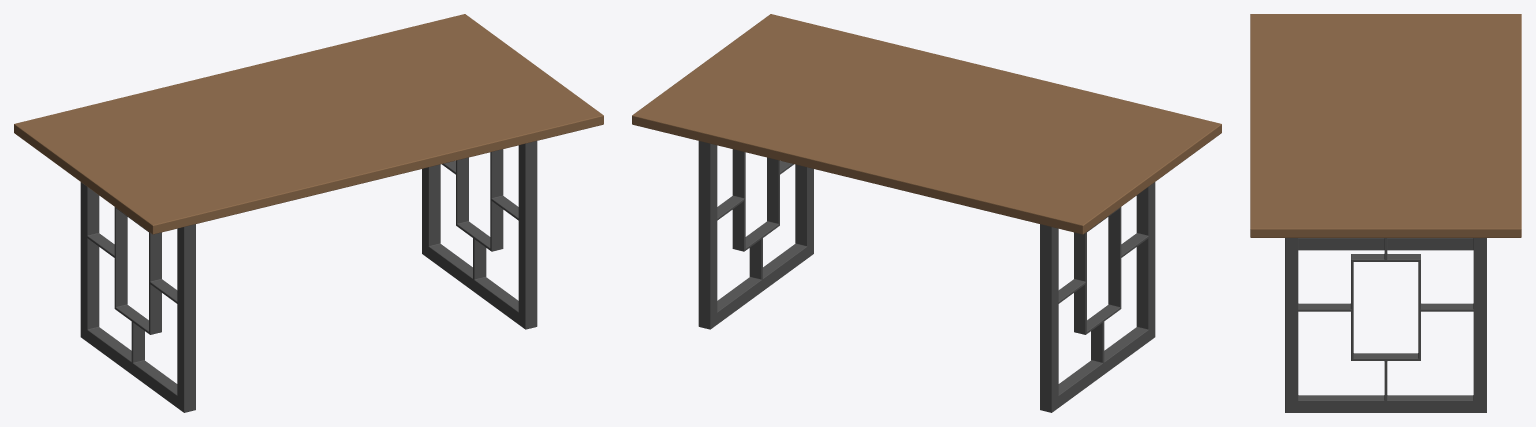
Rendered from steel-frame-table.gltf.
3 views of the same model, side by side, from view 1: azimuth 30°, elevation 25°; view 2: azimuth 150°, elevation 25°; view 3: azimuth 270°, elevation 25° (orthographic). The views are drawn at different scales.
Parts seen in each view (by area): view 1: Sketchfab_model; view 2: Sketchfab_model; view 3: Sketchfab_model.
Part boxes in pixels (bbox=[...]): Sketchfab_model: bbox=[14, 14, 603, 412]; Sketchfab_model: bbox=[632, 14, 1221, 412]; Sketchfab_model: bbox=[1250, 14, 1521, 412].
Bounding box in the file's own units: 1.69 × 0.76 × 0.9009.
